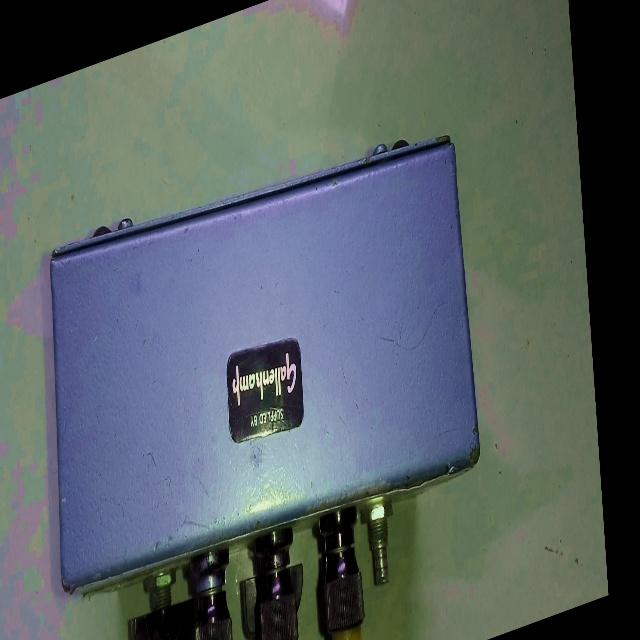Decade Resistance Box: (37, 75, 500, 640)
